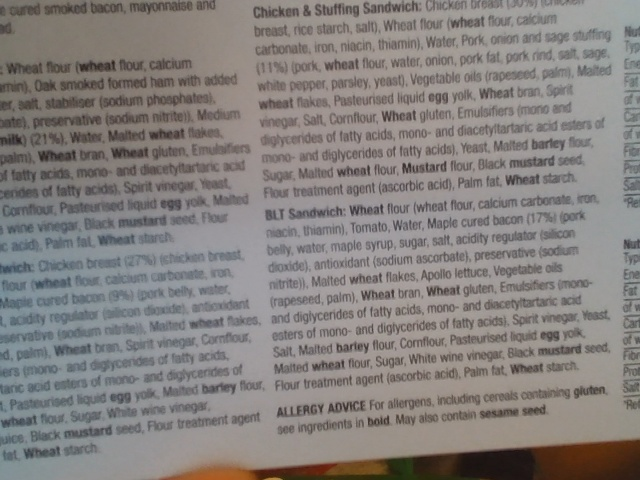chicken: (250, 4, 302, 19)
egg: (539, 326, 563, 345), (427, 90, 449, 104)
